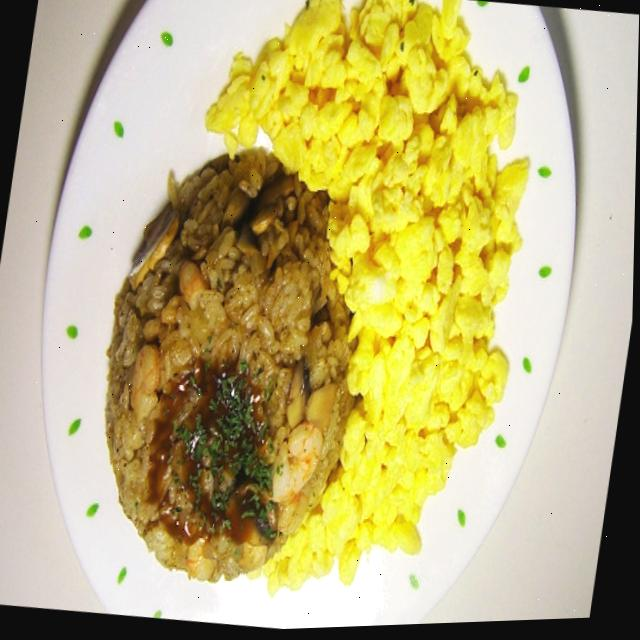鸡蛋料理: (32, 0, 583, 639)
